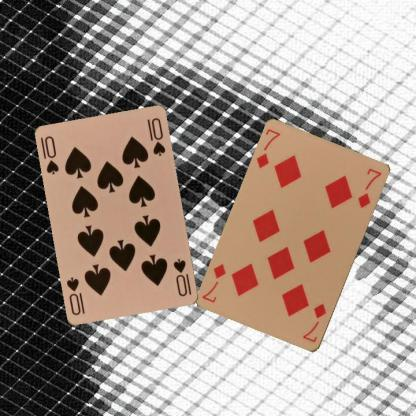10s: (171, 256, 193, 298), (42, 134, 61, 176)
7d: (254, 126, 282, 170), (300, 300, 327, 344)
